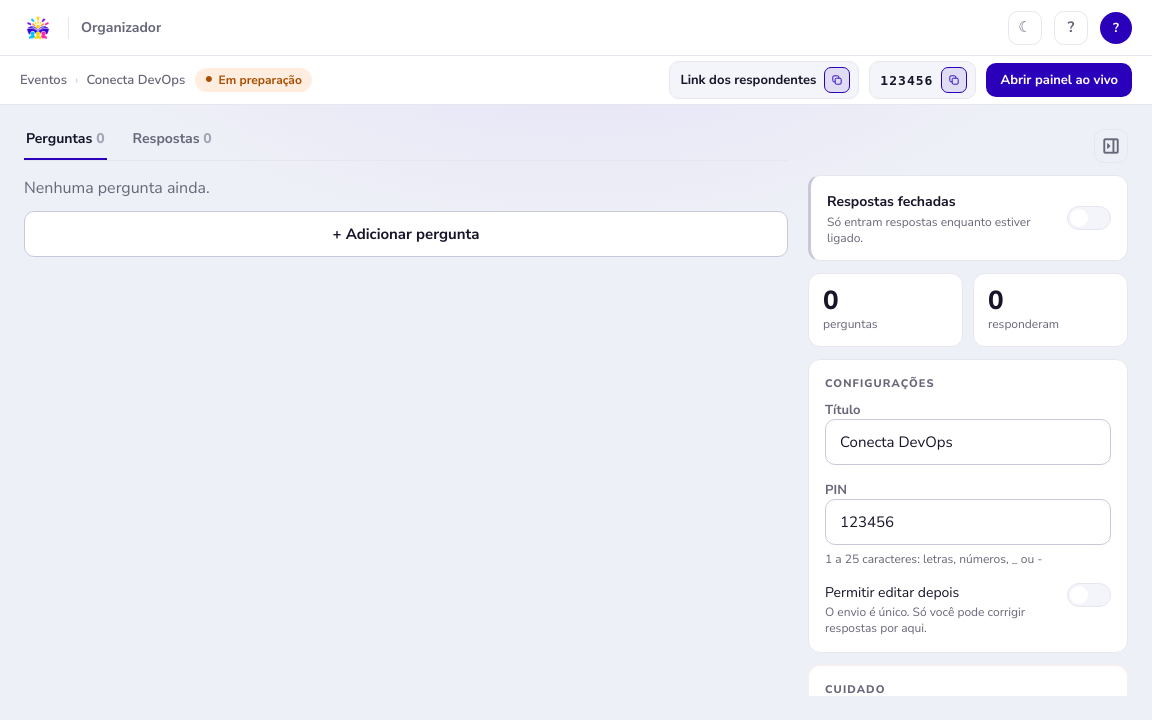
Editar evento › esconde o e-mail do participante no painel de detalhe quando desativado pelo admin
The image size is (1152, 720).
Expected: the field labelled "Título" holds "Conecta DevOps", top-left (825, 419), bottom-right (1111, 465)
What coordinates should you click on to do the following:
click the tab "Respostas 0"
I would click on:
 (172, 144)
Its box is top-left (131, 129), bottom-right (214, 160).
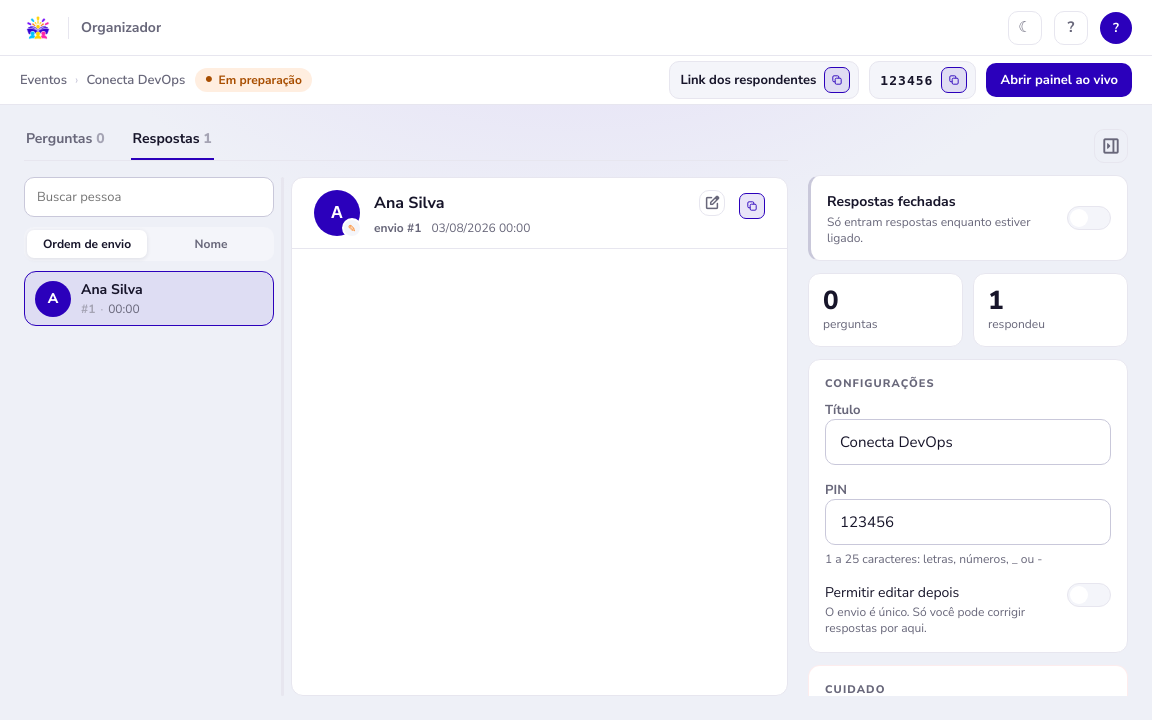
Expected: the 2nd text "Ana Silva" is shown, top-left (81, 280), bottom-right (143, 299)
